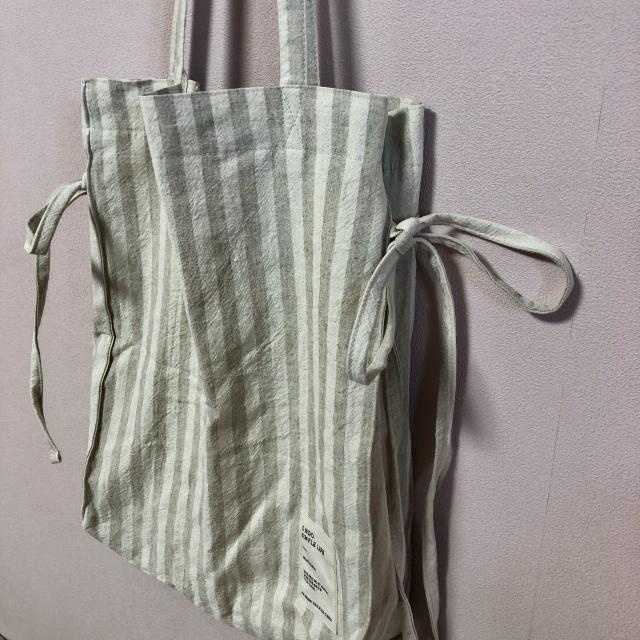ecobag: (30, 15, 538, 638)
